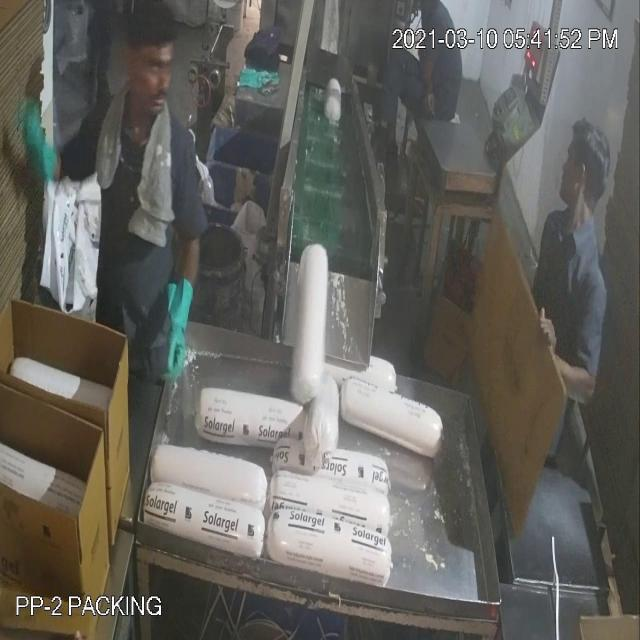Gloves: (35, 99, 571, 364)
